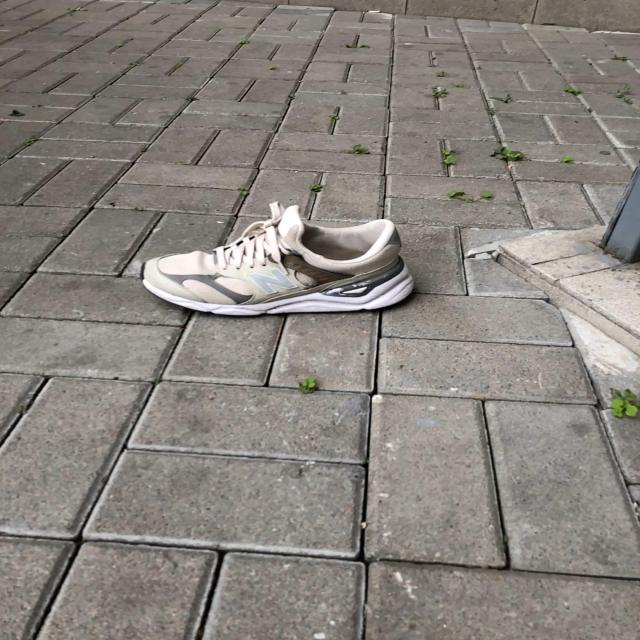shoe: (141, 220, 417, 319)
